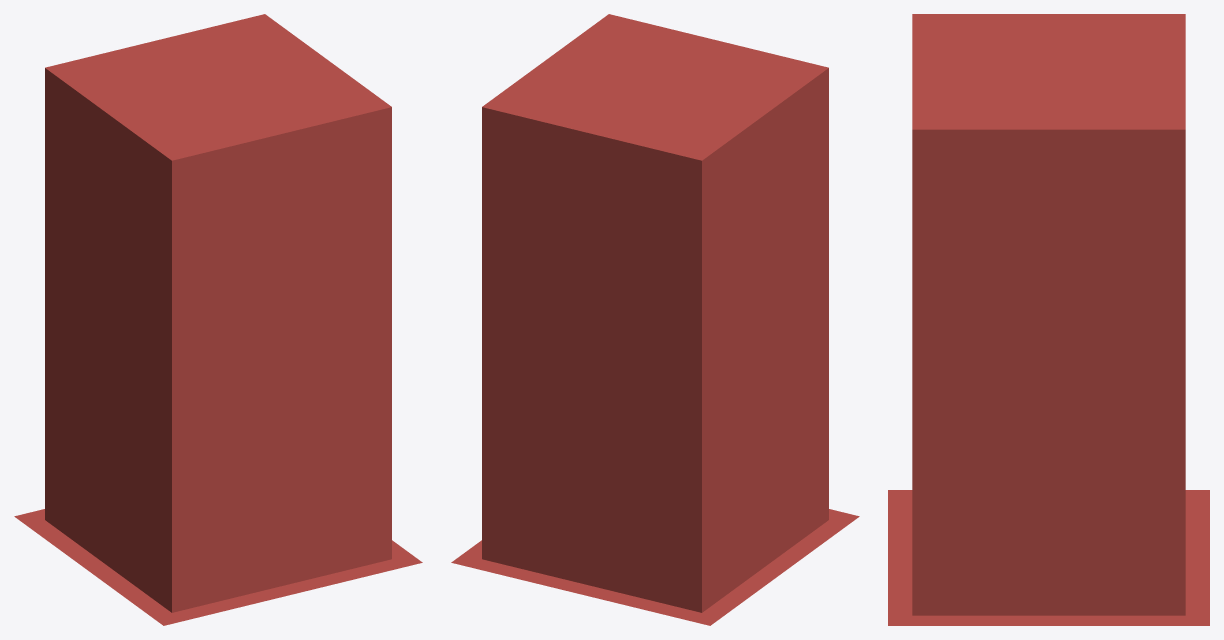
Rendered from 3x3 Hotel.fbx.
3 views of the same model, side by side, from view 1: azimuth 30°, elevation 25°; view 2: azimuth 150°, elevation 25°; view 3: azimuth 270°, elevation 25° (orthographic). The views are drawn at different scales.
Visible parts, largest first — view 1: 3x3 Hotel; view 2: 3x3 Hotel; view 3: 3x3 Hotel.
Boxes of the visible parts, x1,y1,x2,y2 form: 3x3 Hotel: [14, 14, 422, 625]; 3x3 Hotel: [451, 14, 859, 625]; 3x3 Hotel: [888, 14, 1209, 625].
Bounding box in the file's own units: 3 × 5 × 3.
